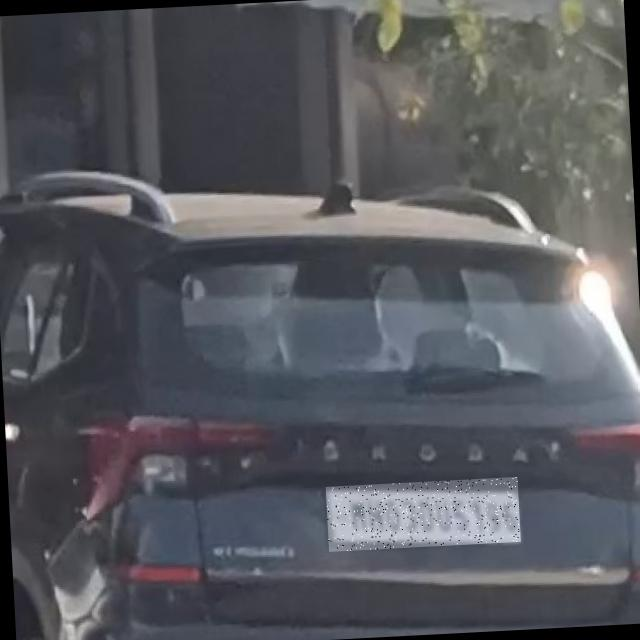Plate: (327, 478, 522, 553)
